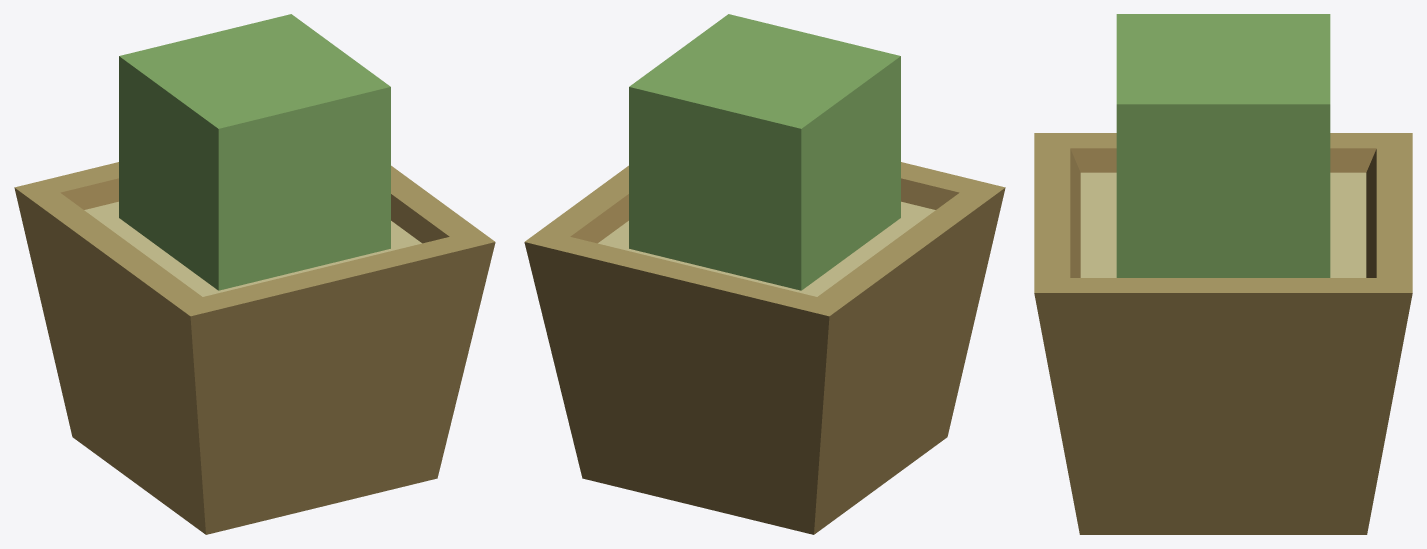
The model's file is vegetation_004.fbx.
The picture shows the model from 3 angles, left to right: view 1: azimuth 30°, elevation 25°; view 2: azimuth 150°, elevation 25°; view 3: azimuth 270°, elevation 25°; orthographic projection. The views are drawn at different scales.
Parts seen in each view (by area): view 1: vegetation_004; view 2: vegetation_004; view 3: vegetation_004.
Part boxes in pixels (left/top/right/bottom): vegetation_004: left=14, top=14, right=495, bottom=534; vegetation_004: left=524, top=14, right=1005, bottom=534; vegetation_004: left=1034, top=14, right=1412, bottom=534.
Size of the model in its own units: 106 by 128 by 106.
